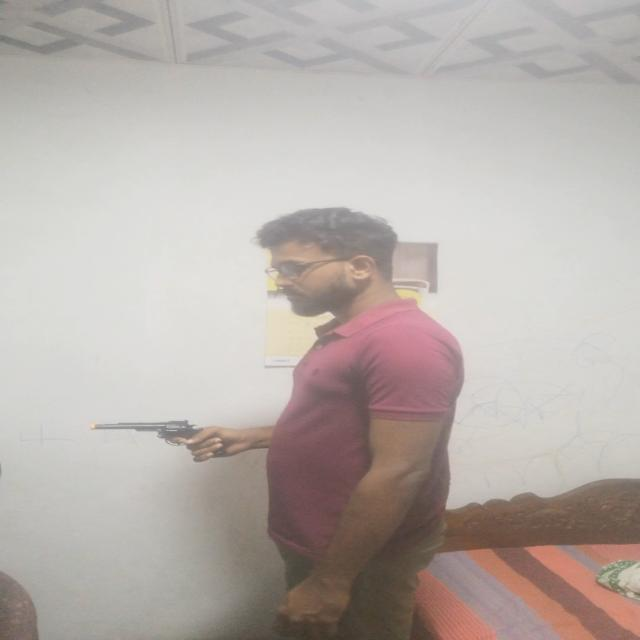Gun_Holder: (95, 413, 231, 461)
Person: (148, 204, 468, 640)
